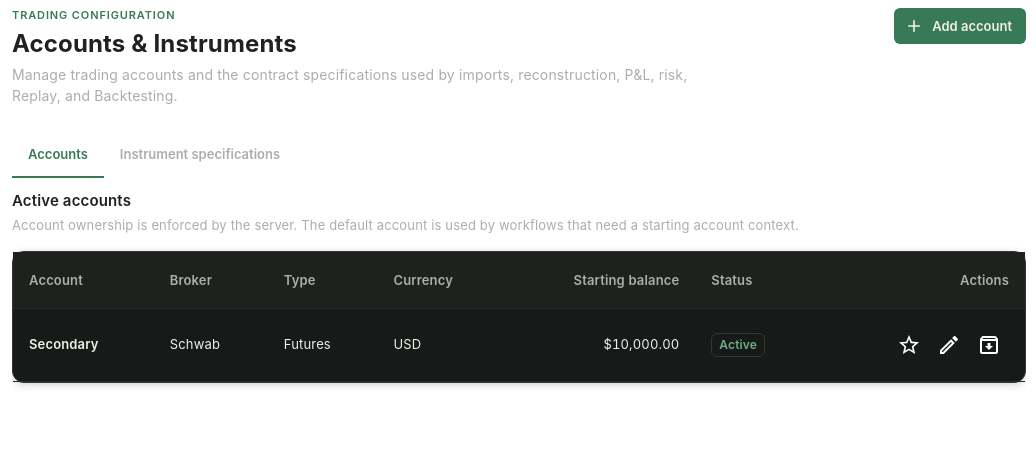
Test: sets an active account as default through the account service
The image size is (1036, 467).
Click the button named "Make Secondary default". click: click(909, 345)
box: [889, 325, 929, 365]
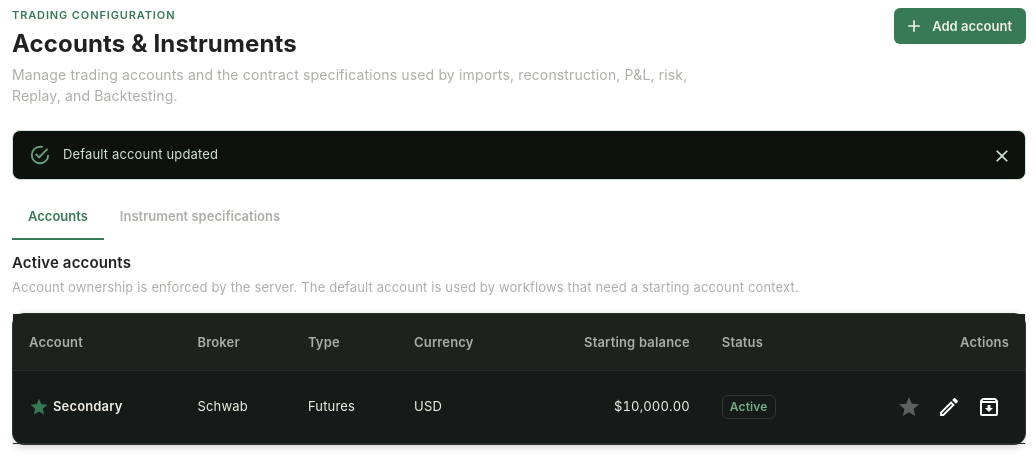
Expected: the text "Default account updated" is shown, [63, 146, 218, 162]
